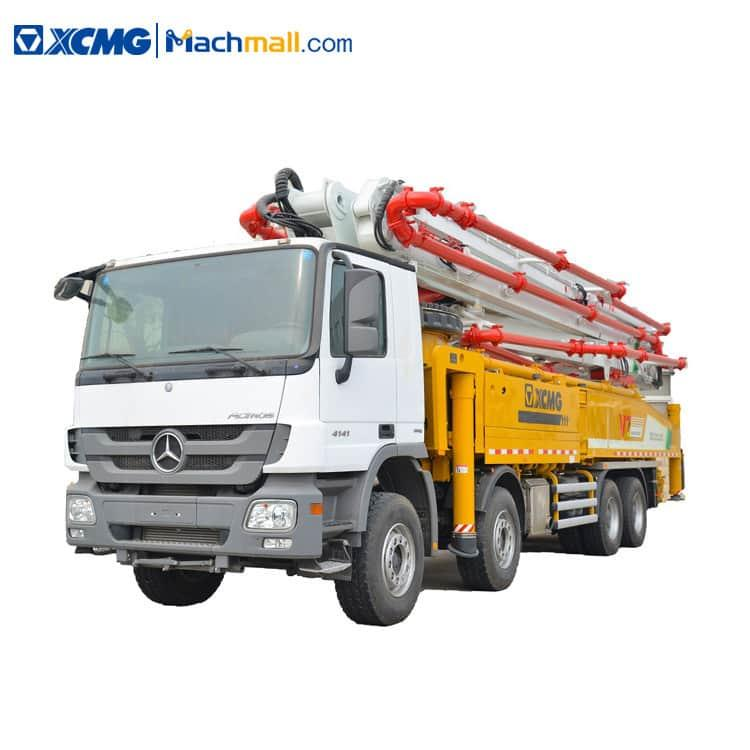truck: (52, 168, 686, 627)
